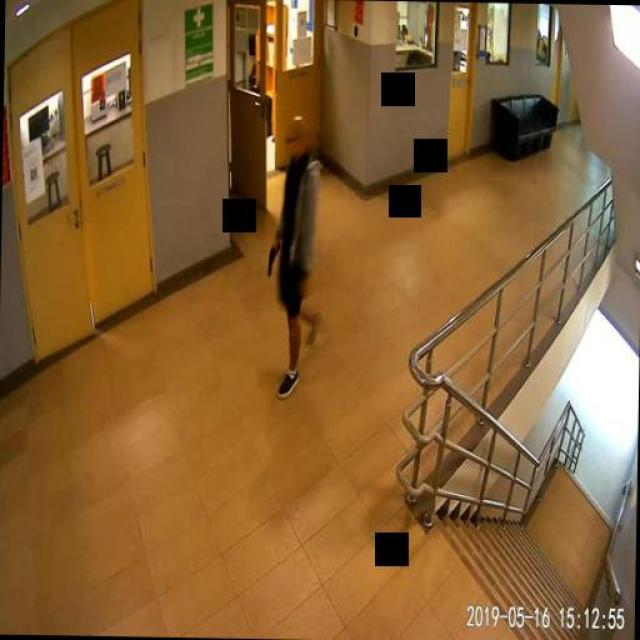gun: (266, 240, 279, 276)
